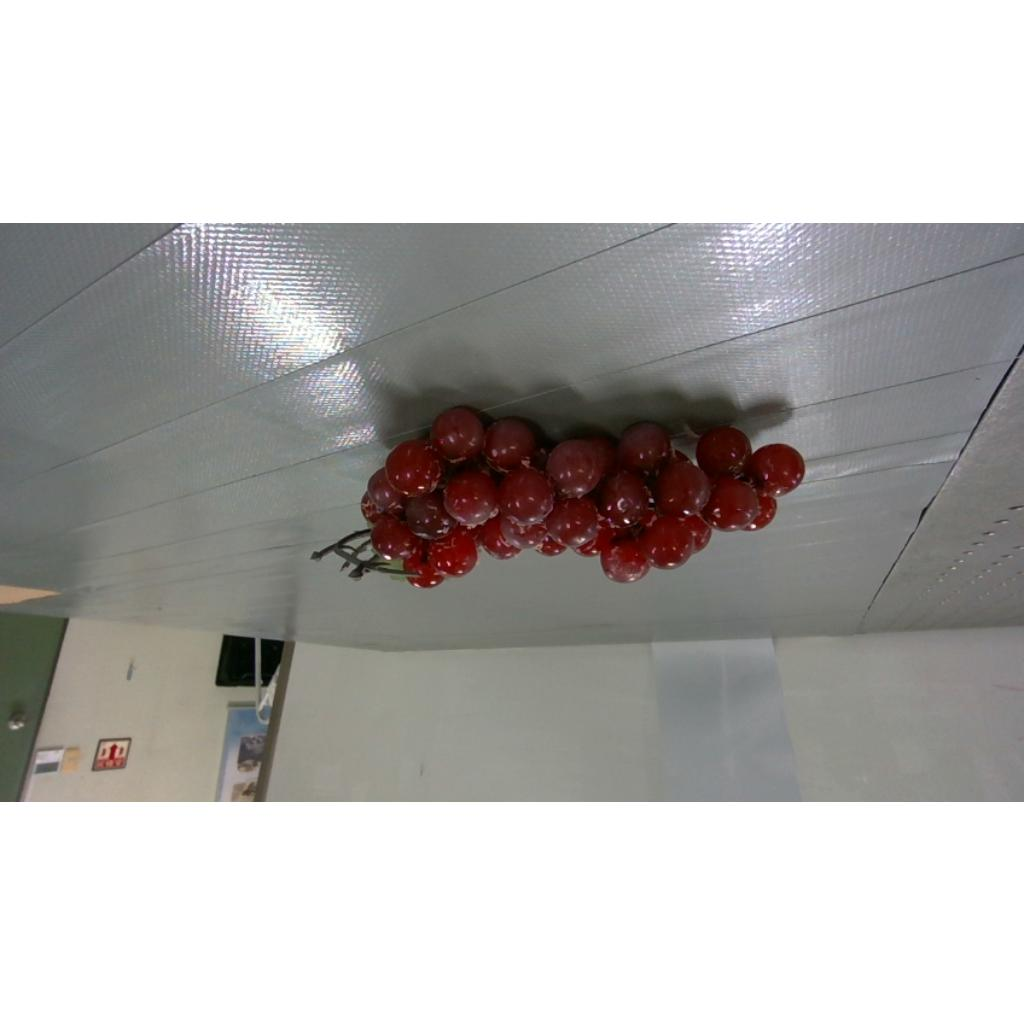grape: (314, 406, 804, 588)
